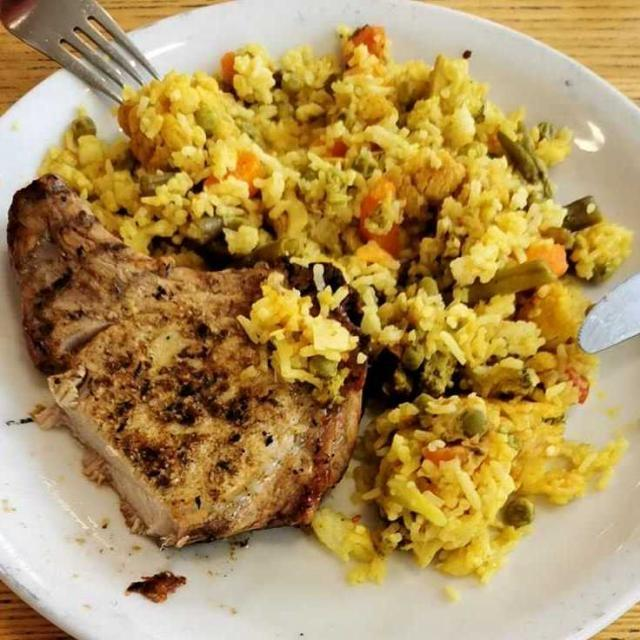mixed-vegetables: (177, 158, 562, 555)
pork: (0, 171, 382, 557)
rice: (52, 27, 619, 578)
